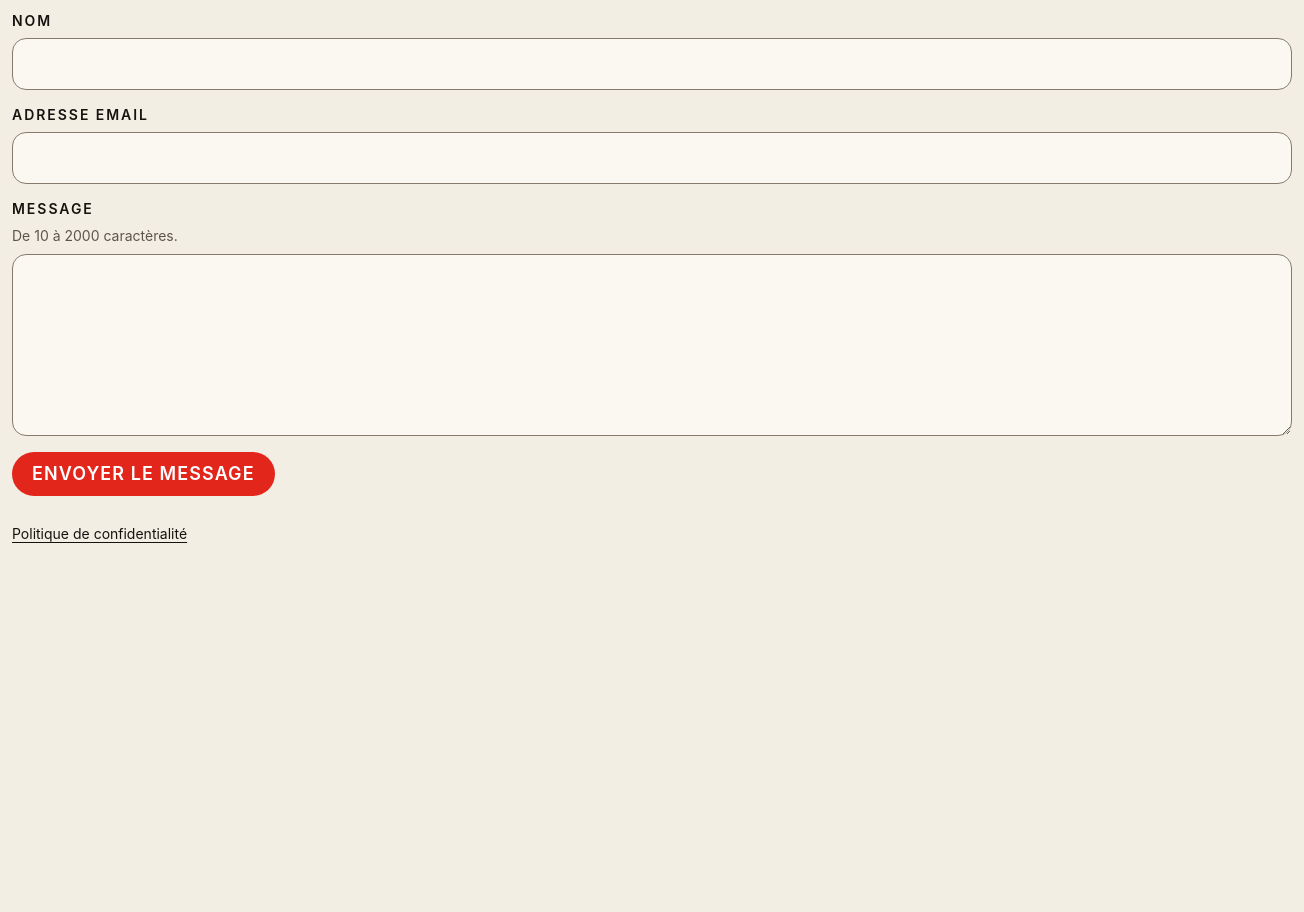
FormulaireContact › « Message envoyé » seulement après la réponse réelle, puis champs vidés
Type "TEST_Awa" into the field labelled "Nom" at (652, 64), box [12,38,1292,90]
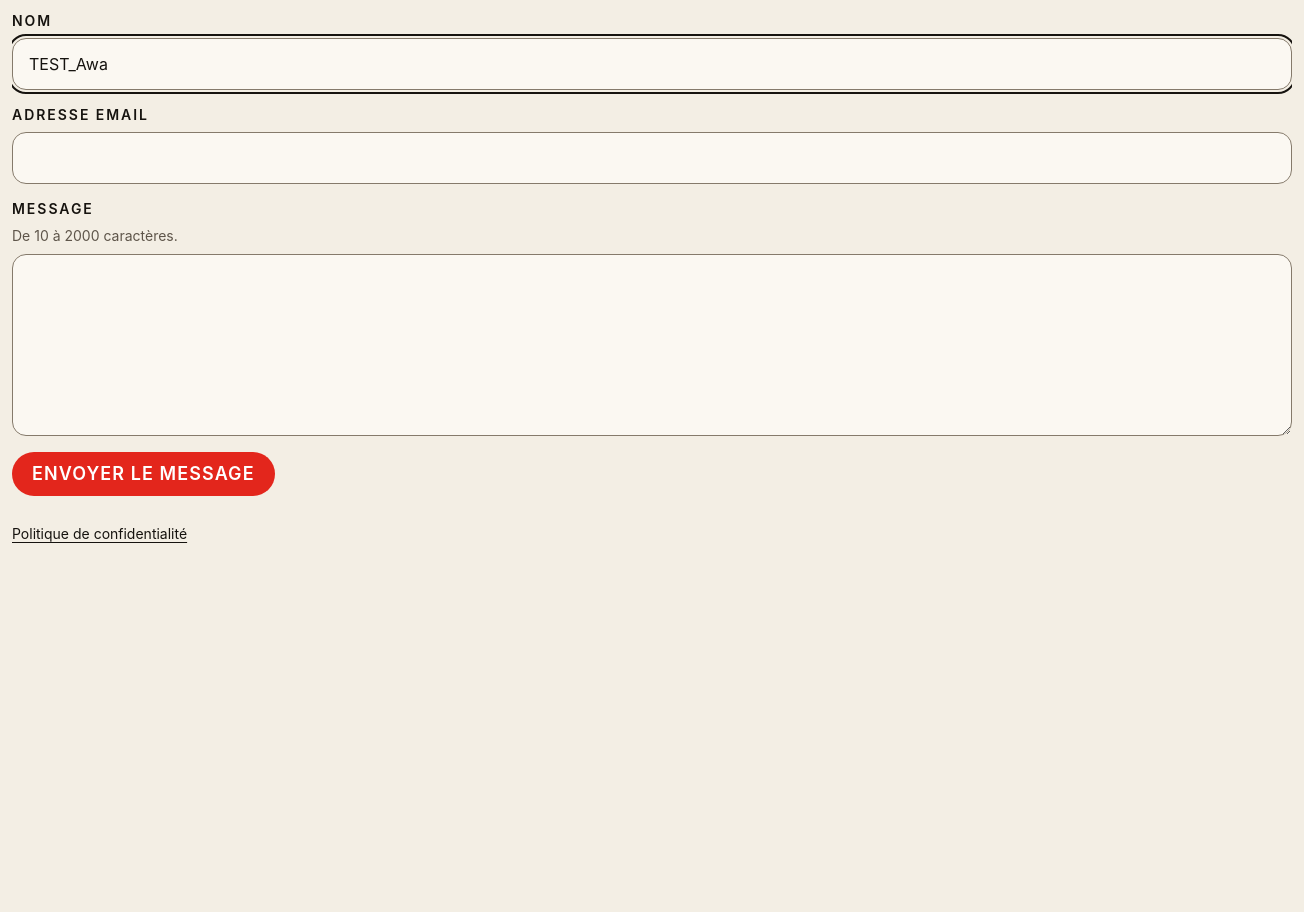
Type "TEST_awa@example.invalid" into the field labelled "Adresse email" at (652, 158), box [12,132,1292,184]
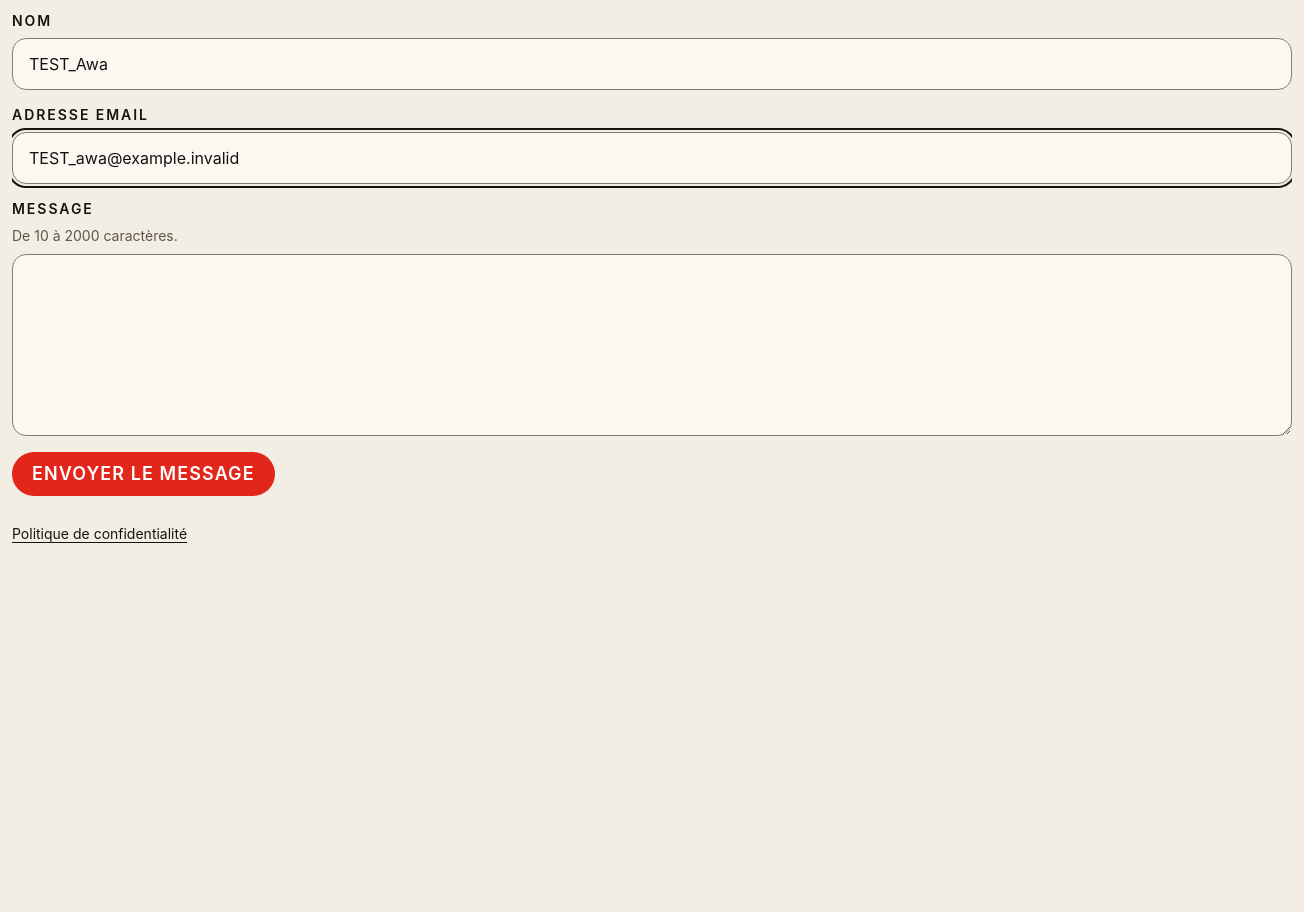
Type "Bonjour, ceci est un message." into the text box labelled "Message" at (652, 345), box [12,254,1292,436]
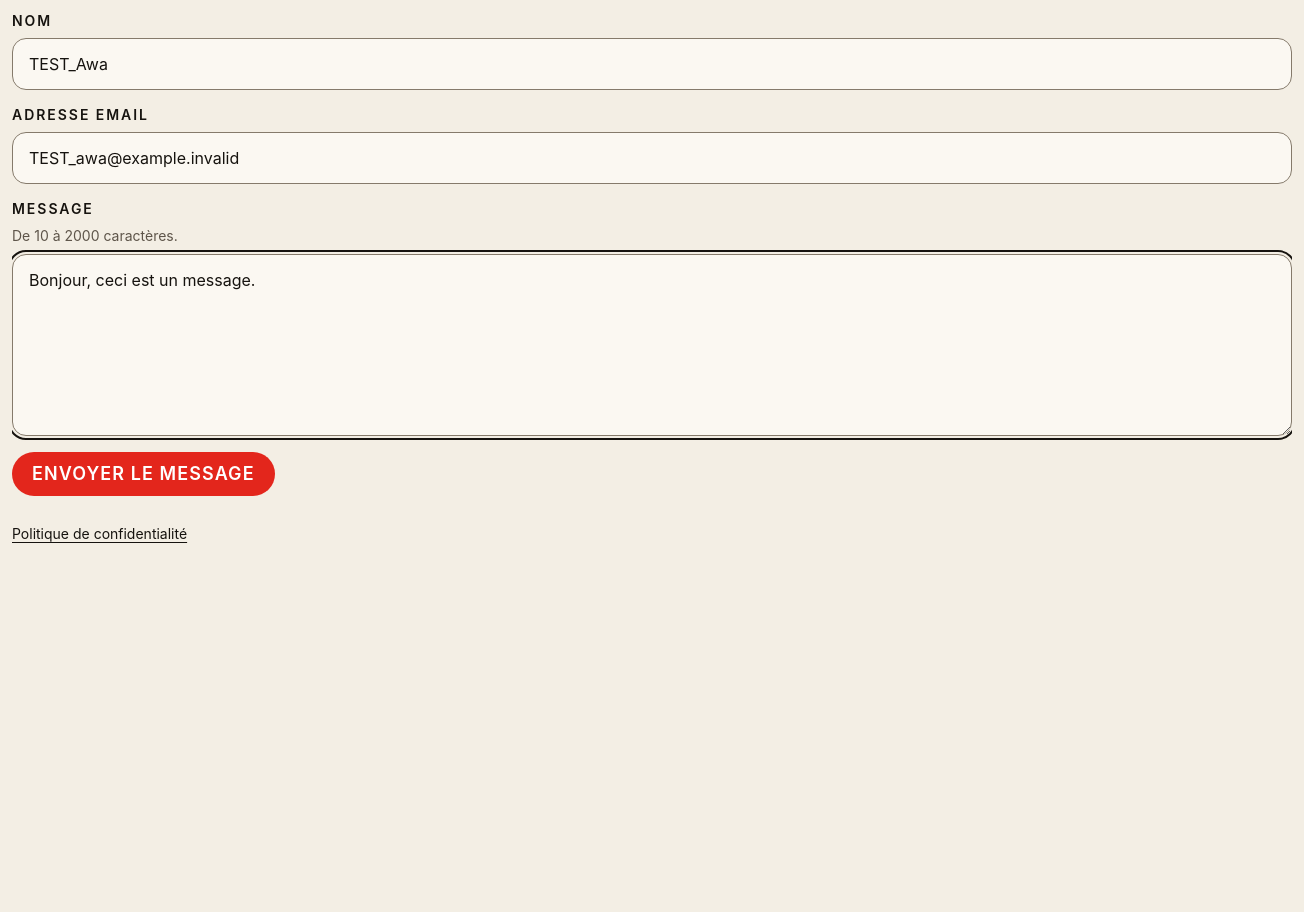
Click the button "Envoyer le message" at (143, 474), box [12,452,275,496]
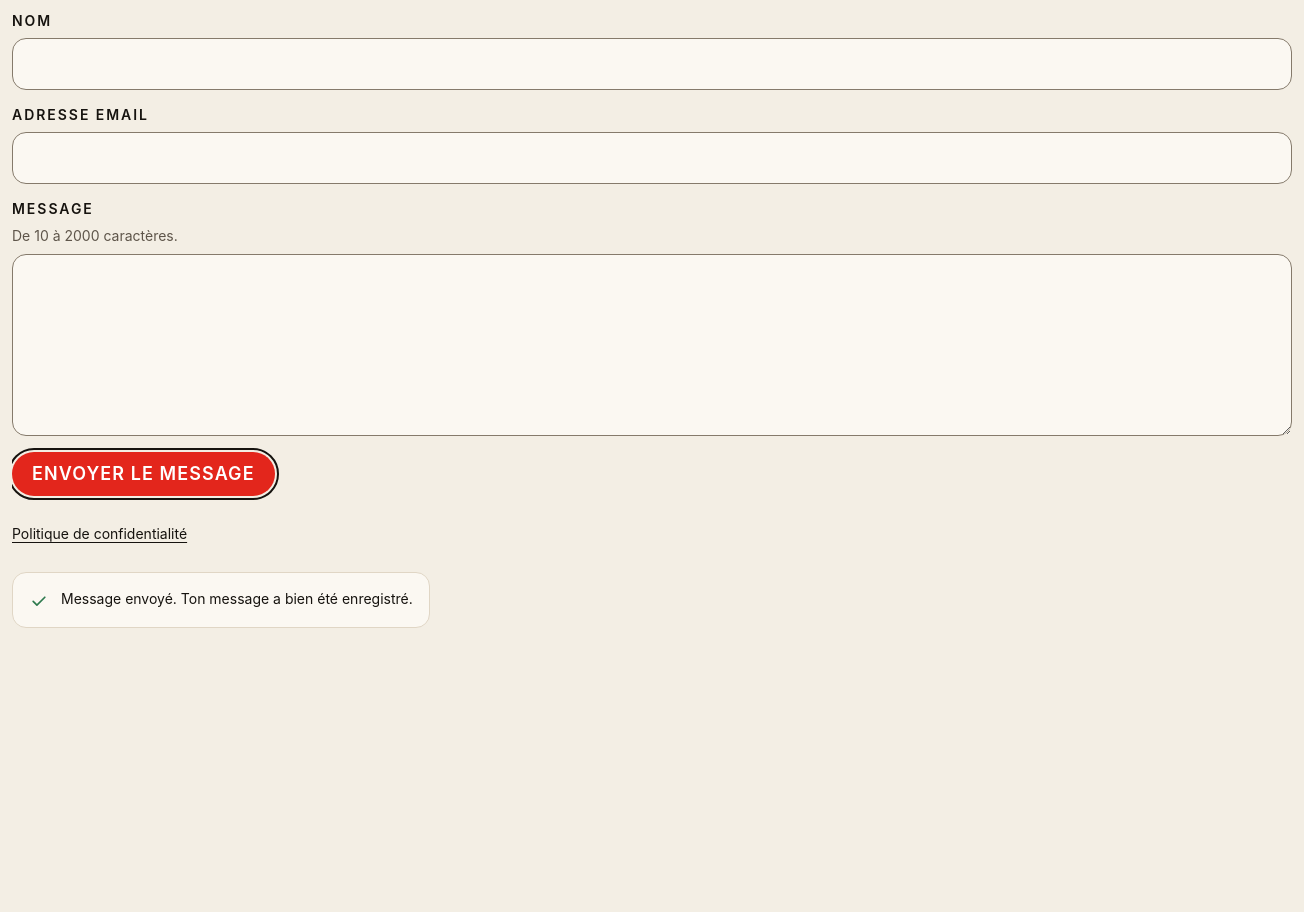
Now the text "Message envoyé. Ton message a bien été enregistré." is shown, box [61,589,413,609]
Now the field labelled "Nom" is empty, box [12,38,1292,90]
Now the field labelled "Adresse email" is empty, box [12,132,1292,184]
